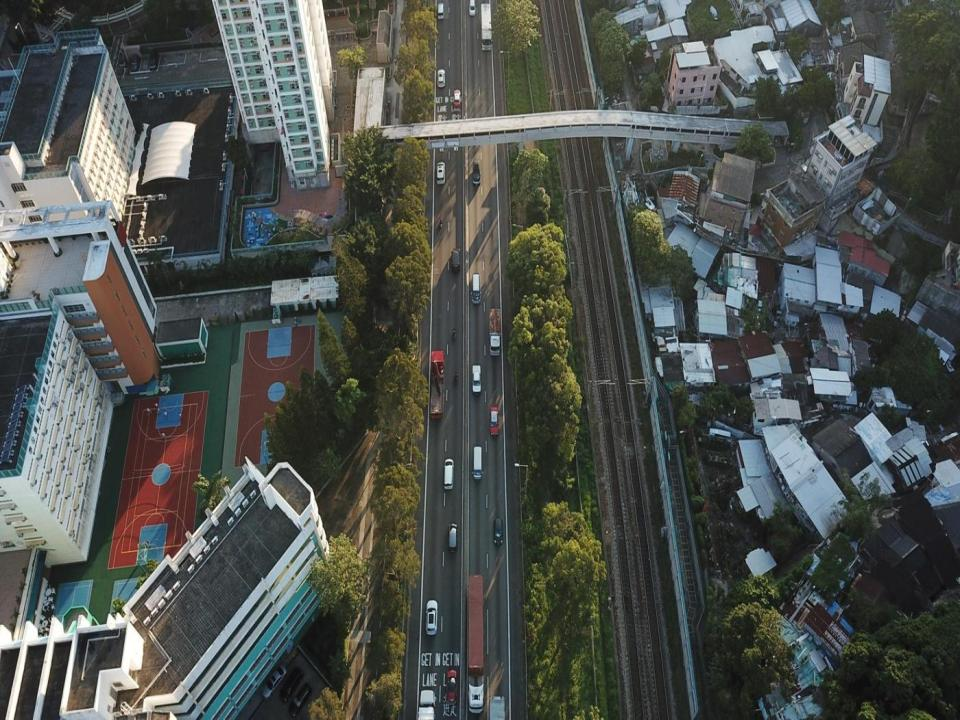car: (260, 664, 286, 699), (287, 682, 312, 716), (280, 667, 304, 700), (426, 599, 437, 635), (446, 669, 457, 703), (490, 406, 499, 437), (448, 524, 457, 552), (148, 50, 159, 70), (494, 519, 502, 545), (437, 68, 445, 87), (453, 90, 461, 109), (468, 0, 476, 16), (130, 55, 138, 70)
truck: (467, 574, 484, 714), (431, 351, 444, 419), (488, 308, 501, 356), (481, 3, 492, 51), (418, 690, 434, 719), (489, 696, 506, 719)
van: (472, 446, 483, 481), (444, 458, 454, 488), (472, 366, 481, 395), (472, 273, 480, 304), (451, 248, 460, 272), (472, 160, 480, 186), (437, 162, 446, 184), (437, 4, 444, 19)
